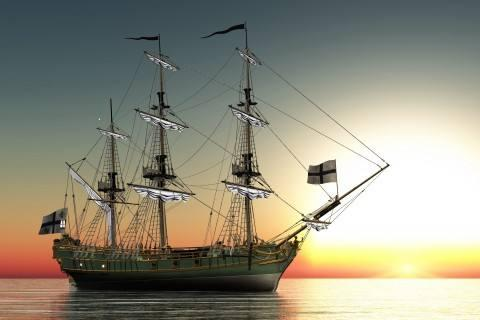fanchuan: (36, 19, 391, 290)
